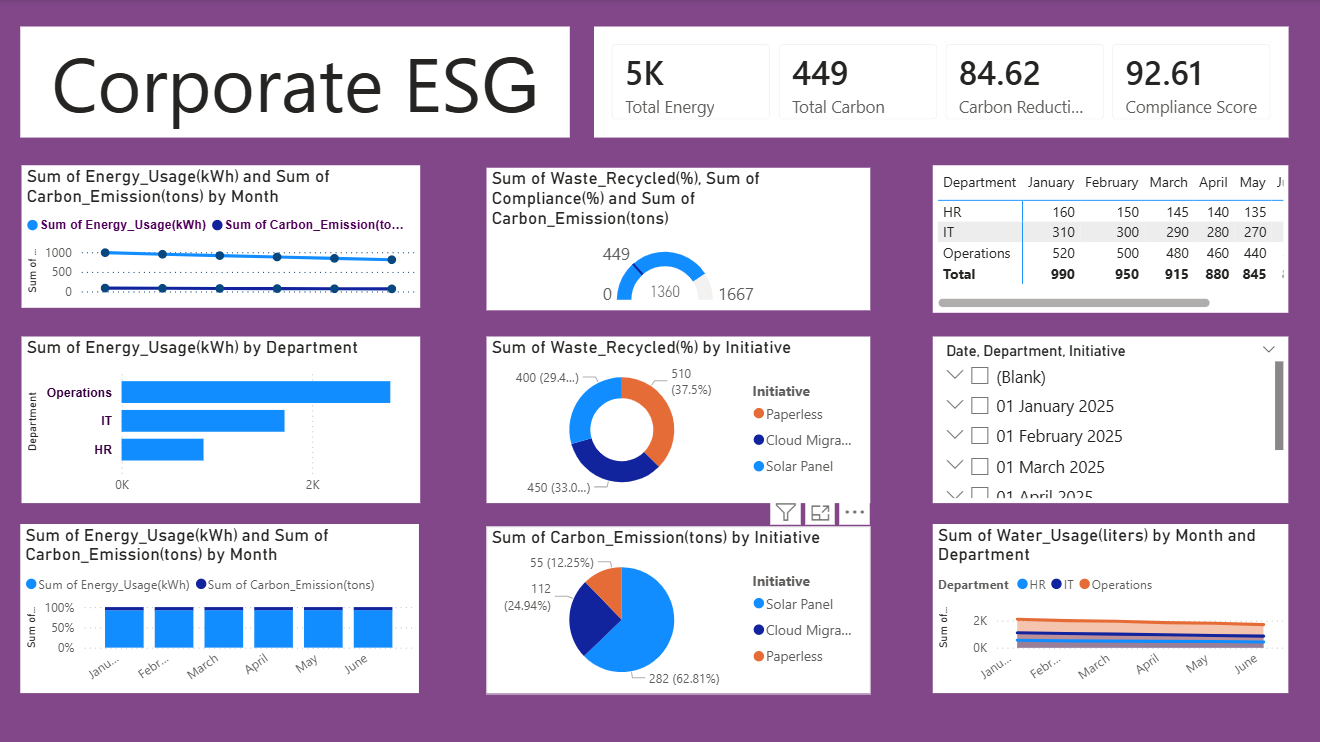

The page's visual inventory and layout, read from the dashboard file:
{"tool":"powerbi","page":{"name":"Page 1","canvas":[1280,720],"ordinal":0},"visuals":[{"type":"cardVisual","fields":{"Data":["ESG_Data.Total Energy","ESG_Data.Total Carbon","ESG_Data.Carbon Reduction %","ESG_Data.Compliance Score"]},"box":[578.8,27.1,670.6,107.1],"z":0},{"type":"lineChart","fields":{"Category":["ESG_Data.Date.Variation.Date Hierarchy.Month"],"Y":["Sum(ESG_Data.Energy_Usage(kWh))","Sum(ESG_Data.Carbon_Emission(tons))"]},"box":[27.1,160,384.7,137.6],"z":1000},{"type":"clusteredBarChart","fields":{"Category":["ESG_Data.Department"],"Y":["Sum(ESG_Data.Energy_Usage(kWh))"]},"box":[27.1,325.9,384.7,161.2],"z":2000},{"type":"pieChart","fields":{"Category":["ESG_Data.Initiative"],"Y":["Sum(ESG_Data.Carbon_Emission(tons))"]},"box":[475.3,509.4,370.6,161.2],"z":3000},{"type":"donutChart","fields":{"Category":["ESG_Data.Initiative"],"Y":["Sum(ESG_Data.Waste_Recycled(%))"]},"box":[475.3,325.9,370.6,161.2],"z":4000},{"type":"pivotTable","fields":{"Rows":["ESG_Data.Department"],"Columns":["ESG_Data.Date.Variation.Date Hierarchy.Month"],"Values":["Sum(ESG_Data.Energy_Usage(kWh))"]},"box":[905.9,160,343.5,142.4],"z":5000},{"type":"hundredPercentStackedColumnChart","fields":{"Category":["ESG_Data.Date.Variation.Date Hierarchy.Month"],"Y":["Sum(ESG_Data.Energy_Usage(kWh))","Sum(ESG_Data.Carbon_Emission(tons))"]},"box":[25.9,507.1,384.7,163.5],"z":6000},{"type":"slicer","fields":{"Values":["ESG_Data.Date","ESG_Data.Department","ESG_Data.Initiative"]},"box":[905.9,325.9,343.5,161.2],"z":7000},{"type":"areaChart","fields":{"Category":["ESG_Data.Date.Variation.Date Hierarchy.Month"],"Series":["ESG_Data.Department"],"Y":["Sum(ESG_Data.Water_Usage(liters))"]},"box":[905.9,507.1,343.5,163.5],"z":8000},{"type":"gauge","fields":{"MaxValue":["Sum(ESG_Data.Compliance(%))"],"TargetValue":["Sum(ESG_Data.Carbon_Emission(tons))"],"Y":["Sum(ESG_Data.Waste_Recycled(%))"]},"box":[475.3,162.4,370.6,137.6],"z":9000},{"type":"textbox","box":[25.9,27.1,530.6,107.1],"z":9001}]}

Visuals, with their boxes in screenshot pixels (x1, y1, x2, y2), scaled from the page's 1280x720 canvas onto the 1320x742 screenshot:
cardVisual - ESG_Data.Total Energy x ESG_Data.Total Carbon: x1=597, y1=28, x2=1288, y2=138
lineChart - ESG_Data.Date.Variation.Date Hierarchy.Month x Sum(ESG_Data.Energy_Usage(kWh)): x1=28, y1=165, x2=425, y2=307
clusteredBarChart - ESG_Data.Department x Sum(ESG_Data.Energy_Usage(kWh)): x1=28, y1=336, x2=425, y2=502
pieChart - ESG_Data.Initiative x Sum(ESG_Data.Carbon_Emission(tons)): x1=490, y1=525, x2=872, y2=691
donutChart - ESG_Data.Initiative x Sum(ESG_Data.Waste_Recycled(%)): x1=490, y1=336, x2=872, y2=502
pivotTable - ESG_Data.Department x ESG_Data.Date.Variation.Date Hierarchy.Month: x1=934, y1=165, x2=1288, y2=312
hundredPercentStackedColumnChart - ESG_Data.Date.Variation.Date Hierarchy.Month x Sum(ESG_Data.Energy_Usage(kWh)): x1=27, y1=523, x2=423, y2=691
slicer - ESG_Data.Date x ESG_Data.Department: x1=934, y1=336, x2=1288, y2=502
areaChart - ESG_Data.Date.Variation.Date Hierarchy.Month x ESG_Data.Department: x1=934, y1=523, x2=1288, y2=691
gauge - Sum(ESG_Data.Compliance(%)) x Sum(ESG_Data.Carbon_Emission(tons)): x1=490, y1=167, x2=872, y2=309
textbox: x1=27, y1=28, x2=574, y2=138
